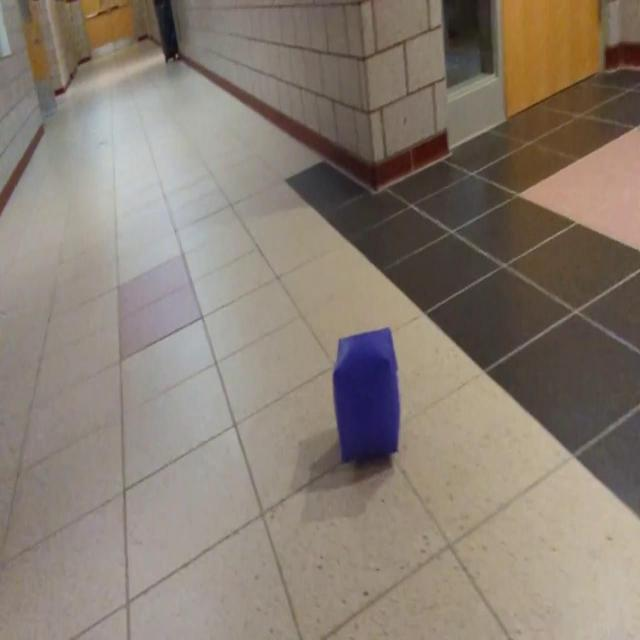frc_cube: (332, 326, 400, 462)
